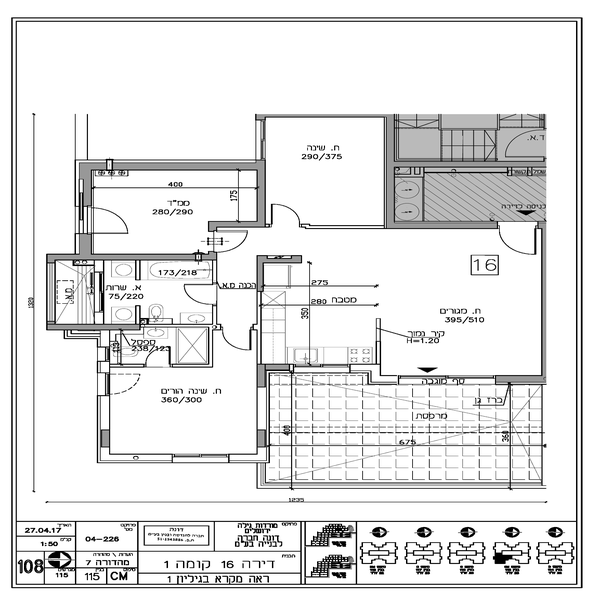door: (501, 220, 538, 264), (97, 365, 149, 396), (93, 204, 132, 242), (220, 313, 257, 353), (182, 274, 217, 308), (264, 201, 303, 225), (215, 230, 252, 255), (145, 339, 172, 366)
room: (258, 250, 551, 388), (75, 150, 265, 260), (256, 107, 393, 229), (41, 246, 221, 328)
wall: (77, 157, 264, 174), (384, 156, 551, 173), (377, 214, 499, 232), (382, 102, 398, 232), (47, 250, 217, 262), (255, 109, 385, 124), (539, 223, 550, 378), (42, 319, 143, 334), (253, 150, 270, 228), (300, 219, 382, 231), (491, 369, 544, 384), (79, 158, 95, 207), (257, 253, 303, 267), (207, 217, 254, 230), (257, 255, 269, 293), (257, 364, 295, 375), (79, 233, 96, 254), (254, 427, 267, 449), (97, 432, 111, 448)
window: (402, 368, 492, 387), (289, 363, 350, 374), (173, 453, 227, 463)
